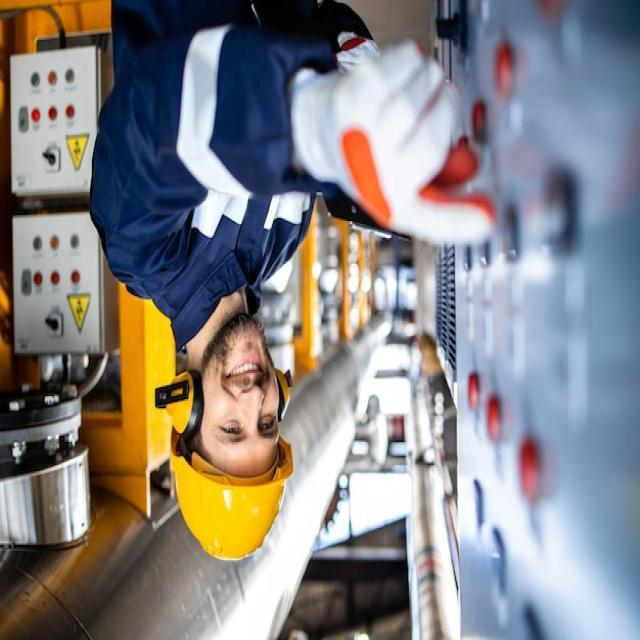safetyhelmet: (164, 390, 300, 564)
